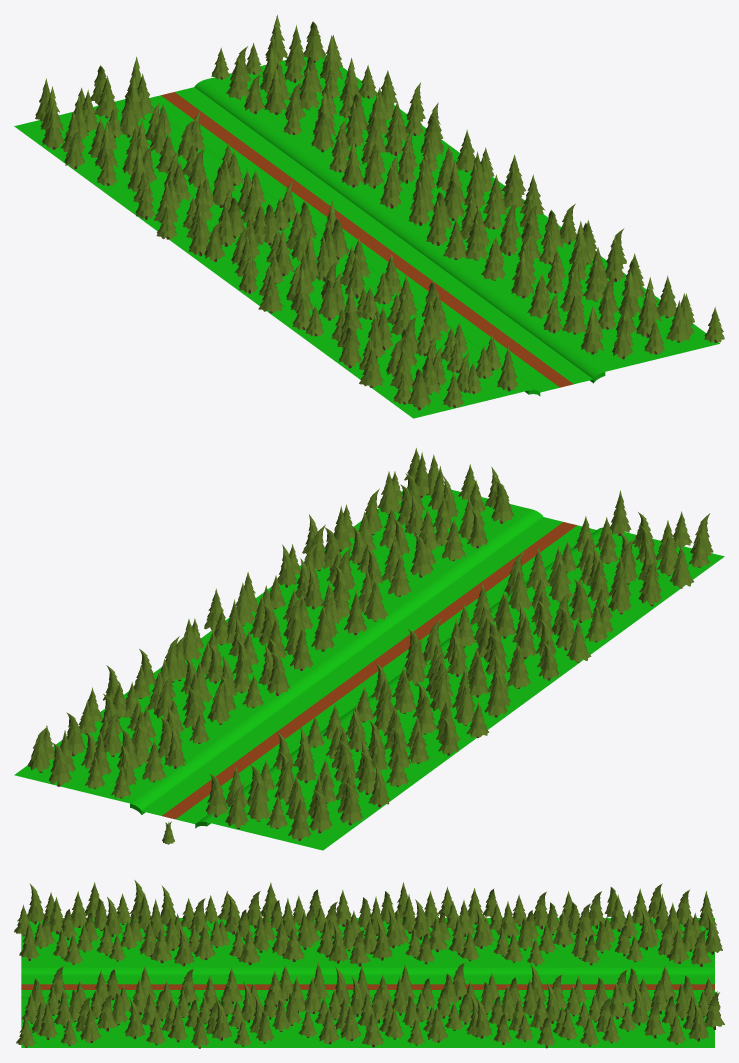
Rendered from cami.glb.
3 renders of one model, top to bottom at view 1: azimuth 30°, elevation 25°; view 2: azimuth 150°, elevation 25°; view 3: azimuth 270°, elevation 25°, orthographic. The views are drawn at different scales.
Parts seen in each view (by area): view 1: bosc.E, herba.E.002, rampaBosc.E, terra; view 2: bosc.E, herba.E.002, rampaBosc.E, terra; view 3: bosc.E, Resource_PineTree_Group.007 (×22), Resource_PineTree_Group.003 (×20), Resource_PineTree_Group.004 (×19), rampaBosc.E, Resource_PineTree_Group.005 (×19), Resource_PineTree_Group.006 (×18), herba.E.002, Resource_PineTree_Group.009 (×12), Resource_PineTree_Group.002 (×10), terra, Resource_PineTree_Group (×5).
Part boxes in pixels (x1,y1,x2,y2): bosc.E: (14, 55, 719, 418); herba.E.002: (149, 87, 593, 392); rampaBosc.E: (151, 79, 605, 396); terra: (161, 92, 573, 387); bosc.E: (14, 487, 724, 850); herba.E.002: (142, 517, 596, 824); rampaBosc.E: (130, 509, 602, 828); terra: (162, 522, 576, 819); bosc.E: (21, 918, 714, 1047); Resource_PineTree_Group.007 (×22): (27, 884, 722, 1041); Resource_PineTree_Group.003 (×20): (49, 888, 650, 1047); Resource_PineTree_Group.004 (×19): (48, 883, 724, 1038); rampaBosc.E: (21, 966, 714, 999); Resource_PineTree_Group.005 (×19): (19, 891, 716, 1042); Resource_PineTree_Group.006 (×18): (71, 888, 696, 1044); herba.E.002: (21, 976, 714, 997); Resource_PineTree_Group.009 (×12): (16, 922, 686, 1047); Resource_PineTree_Group.002 (×10): (94, 898, 611, 1048); terra: (21, 984, 714, 989); Resource_PineTree_Group (×5): (416, 925, 630, 1048).
Bounding box in the file's own units: 142 × 31.68 × 307.
